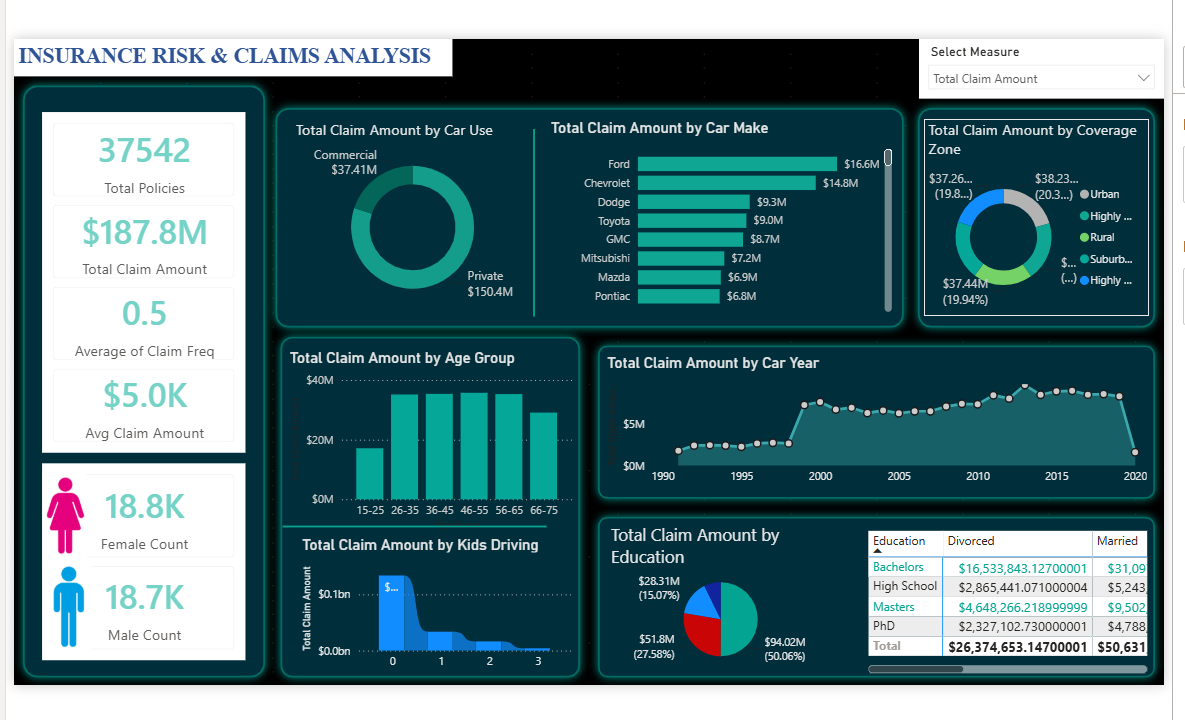

The page's visual inventory and layout, read from the dashboard file:
{"tool":"powerbi","page":{"name":"Page 1","canvas":[1280,720],"ordinal":0},"visuals":[{"type":"textbox","box":[0,0,488.3,41.7],"z":0},{"type":"shape","box":[0,41.7,289.4,679],"z":1000},{"type":"cardVisual","fields":{"Data":["insurance_data_car.Total Policies","insurance_data_car.Total Claim Amount","Avg(insurance_data_car.Claim Freq)","insurance_data_car.Avg Claim Amount"]},"box":[26.4,76.5,236.5,391],"z":2000},{"type":"cardVisual","fields":{"Data":["insurance_data_car.Female Count","insurance_data_car.Male Count"]},"box":[26.4,467.5,236.5,229.6],"z":3000},{"type":"image","box":[26.4,484.2,59.8,98.8],"z":4000},{"type":"image","box":[37.6,583,48.7,104.3],"z":5000},{"type":"slicer","fields":{"Values":["Select Measure.Select Measure"]},"box":[1007.3,0,272.7,66.8],"z":6000},{"type":"shape","box":[281,66.8,719.3,264.3],"z":7000},{"type":"donutChart","fields":{"Y":["insurance_data_car.Total Claim Amount"],"Category":["insurance_data_car.Car Use"]},"box":[308.9,89,269.9,219.8],"z":8000},{"type":"clusteredBarChart","fields":{"Y":["insurance_data_car.Total Claim Amount"],"Category":["insurance_data_car.Car Make"]},"box":[592.7,89,389.6,219.8],"z":9000},{"type":"shape","box":[996.2,66.8,283.8,264.3],"z":10000},{"type":"donutChart","fields":{"Y":["insurance_data_car.Total Claim Amount"],"Category":["insurance_data_car.Coverage Zone"]},"box":[1012.9,89,250.4,219.8],"z":11000},{"type":"shape","box":[286.6,321.4,353.4,399.3],"z":12000},{"type":"clusteredColumnChart","fields":{"Y":["insurance_data_car.Total Claim Amount"],"Category":["insurance_data_car.Age Group"]},"box":[301.9,345,324.2,207.3],"z":13000},{"type":"ribbonChart","fields":{"Y":["insurance_data_car.Total Claim Amount"],"Category":["insurance_data_car.Kids Driving"]},"box":[315.8,552.3,310.3,158.6],"z":14000},{"type":"shape","box":[640,331.1,640,190.6],"z":15000},{"type":"areaChart","fields":{"Y":["insurance_data_car.Total Claim Amount"],"Category":["insurance_data_car.Car Year"]},"box":[655.3,350.6,610.8,154.4],"z":16000},{"type":"shape","box":[640,521.7,640,199],"z":17000},{"type":"pieChart","fields":{"Y":["insurance_data_car.Total Claim Amount"],"Category":["insurance_data_car.Education"]},"box":[659.5,538.4,254.6,165.6],"z":18000},{"type":"pivotTable","fields":{"Rows":["insurance_data_car.Education"],"Columns":["insurance_data_car.Marital Status"],"Values":["insurance_data_car.Total Claim Amount"]},"box":[946.1,542.6,320,168.3],"z":19000},{"type":"shape","box":[488.3,100.2,180.9,208.7],"z":20000},{"type":"shape","box":[299.1,420.2,293.6,244.9],"z":21000}]}

Visuals, with their boxes on the page's 1280x720 design canvas (x1, y1, x2, y2). These are canvas units, not pixel positions in the 1185x720 screenshot, which may show the page scaled, cropped or inside an application window:
textbox: x1=0, y1=0, x2=488, y2=42
shape: x1=0, y1=42, x2=289, y2=721
cardVisual - insurance_data_car.Total Policies x insurance_data_car.Total Claim Amount: x1=26, y1=76, x2=263, y2=468
cardVisual - insurance_data_car.Female Count x insurance_data_car.Male Count: x1=26, y1=468, x2=263, y2=697
image: x1=26, y1=484, x2=86, y2=583
image: x1=38, y1=583, x2=86, y2=687
slicer - Select Measure.Select Measure: x1=1007, y1=0, x2=1280, y2=67
shape: x1=281, y1=67, x2=1000, y2=331
donutChart - insurance_data_car.Total Claim Amount x insurance_data_car.Car Use: x1=309, y1=89, x2=579, y2=309
clusteredBarChart - insurance_data_car.Total Claim Amount x insurance_data_car.Car Make: x1=593, y1=89, x2=982, y2=309
shape: x1=996, y1=67, x2=1280, y2=331
donutChart - insurance_data_car.Total Claim Amount x insurance_data_car.Coverage Zone: x1=1013, y1=89, x2=1263, y2=309
shape: x1=287, y1=321, x2=640, y2=721
clusteredColumnChart - insurance_data_car.Total Claim Amount x insurance_data_car.Age Group: x1=302, y1=345, x2=626, y2=552
ribbonChart - insurance_data_car.Total Claim Amount x insurance_data_car.Kids Driving: x1=316, y1=552, x2=626, y2=711
shape: x1=640, y1=331, x2=1280, y2=522
areaChart - insurance_data_car.Total Claim Amount x insurance_data_car.Car Year: x1=655, y1=351, x2=1266, y2=505
shape: x1=640, y1=522, x2=1280, y2=721
pieChart - insurance_data_car.Total Claim Amount x insurance_data_car.Education: x1=660, y1=538, x2=914, y2=704
pivotTable - insurance_data_car.Education x insurance_data_car.Marital Status: x1=946, y1=543, x2=1266, y2=711
shape: x1=488, y1=100, x2=669, y2=309
shape: x1=299, y1=420, x2=593, y2=665
